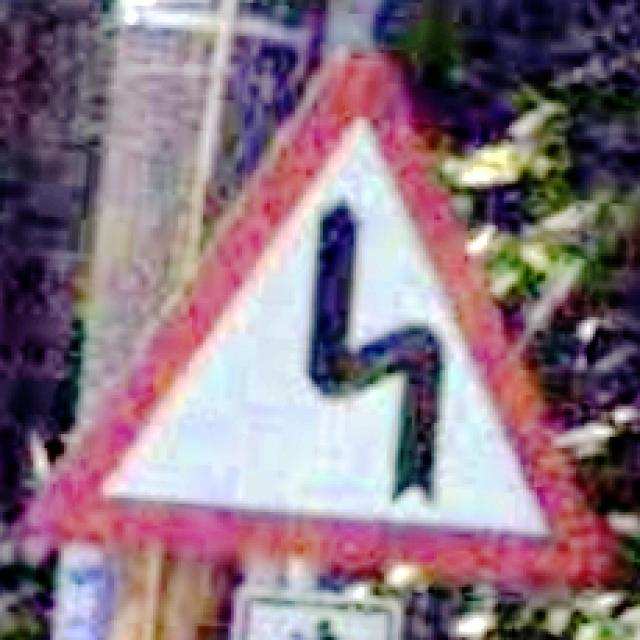doublebendleft: (31, 47, 609, 590)
